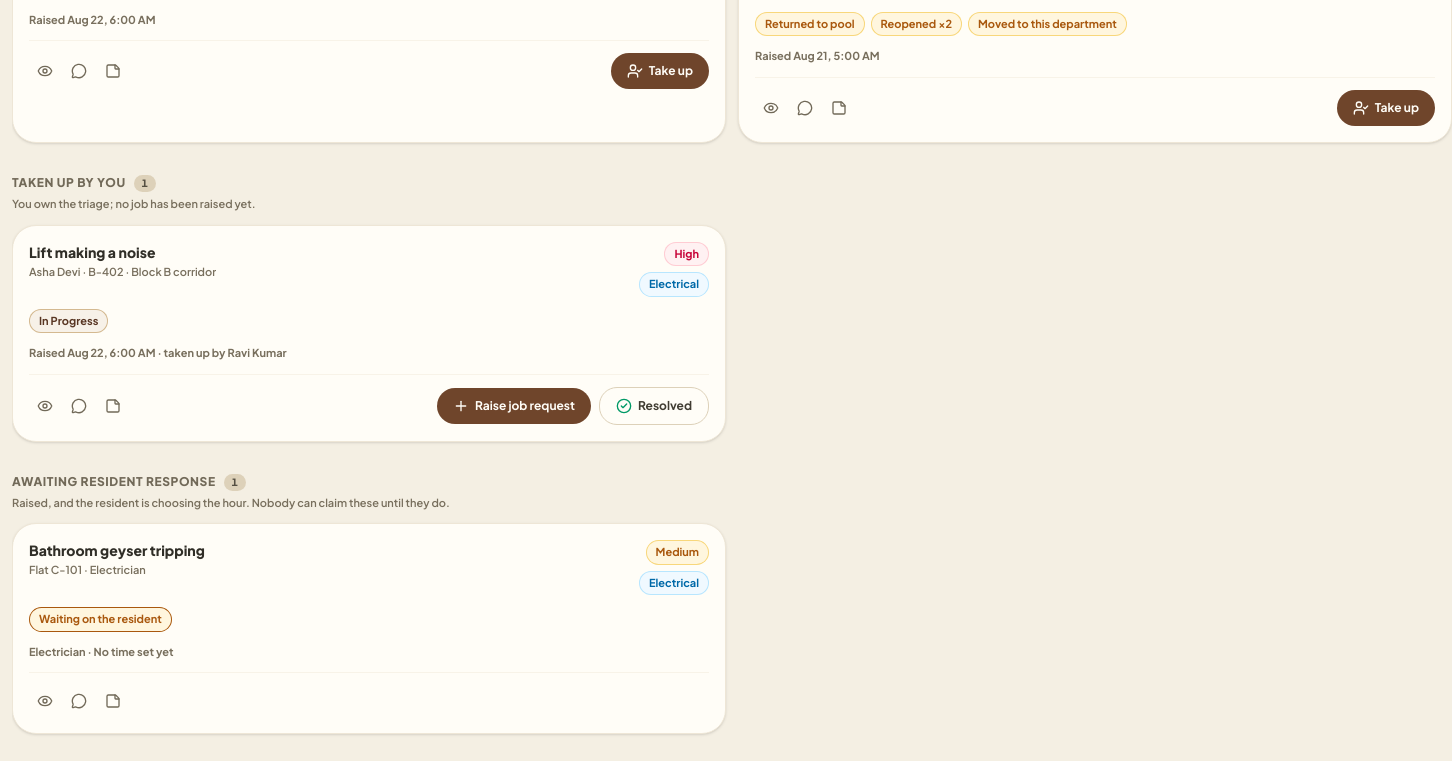
section 2 — taken up by you › shows the running-job refusal verbatim, on the card it refused
(page scrolled)
Expected: the heading "Lift making a noise" is shown, [29,243,156,261]
What coordinates should you click on to do the following:
click the button "Resolved"
I would click on:
 (654, 406)
Its box is [599,387,709,425].
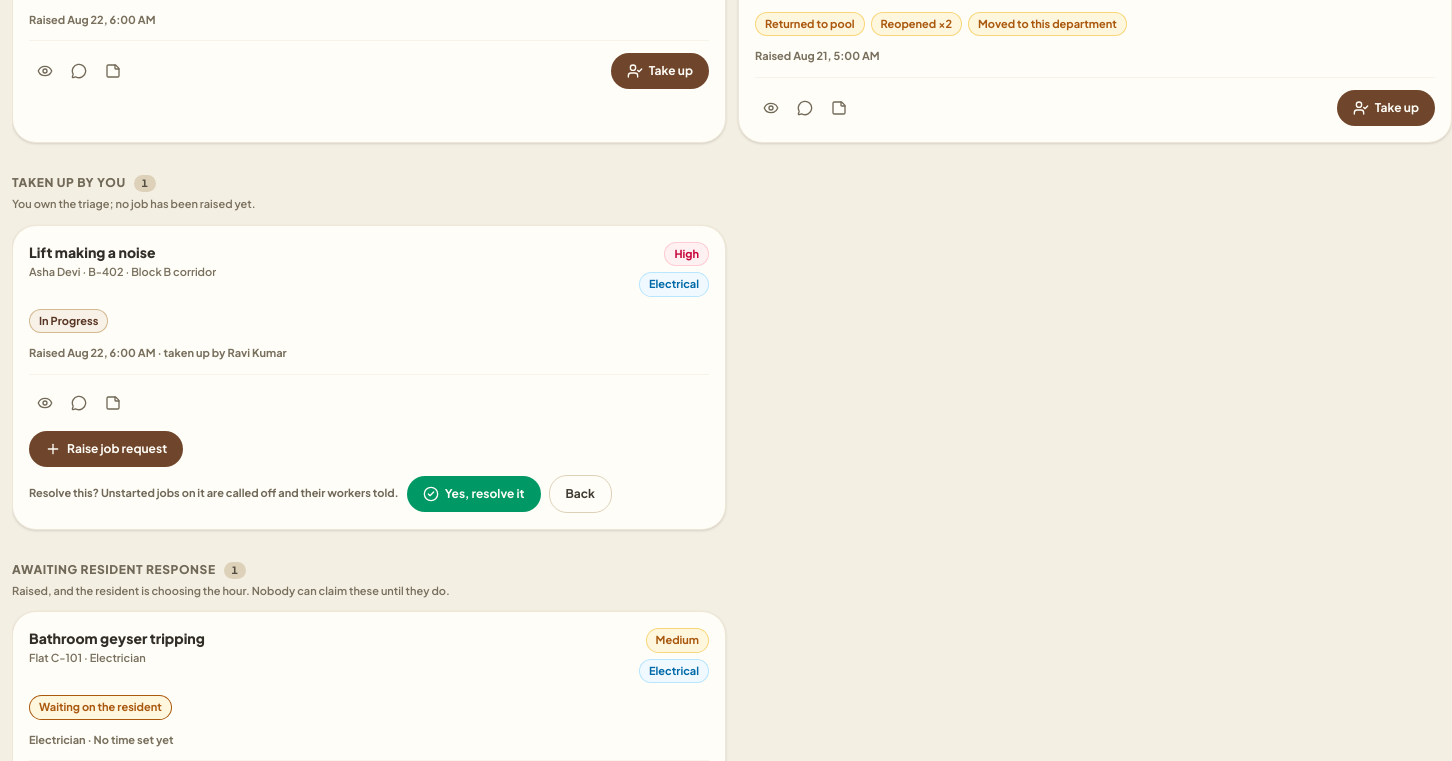
What coordinates should you click on to do the following:
click the button "Yes, resolve it"
I would click on:
 (474, 494)
Its box is [407,476,540,512].
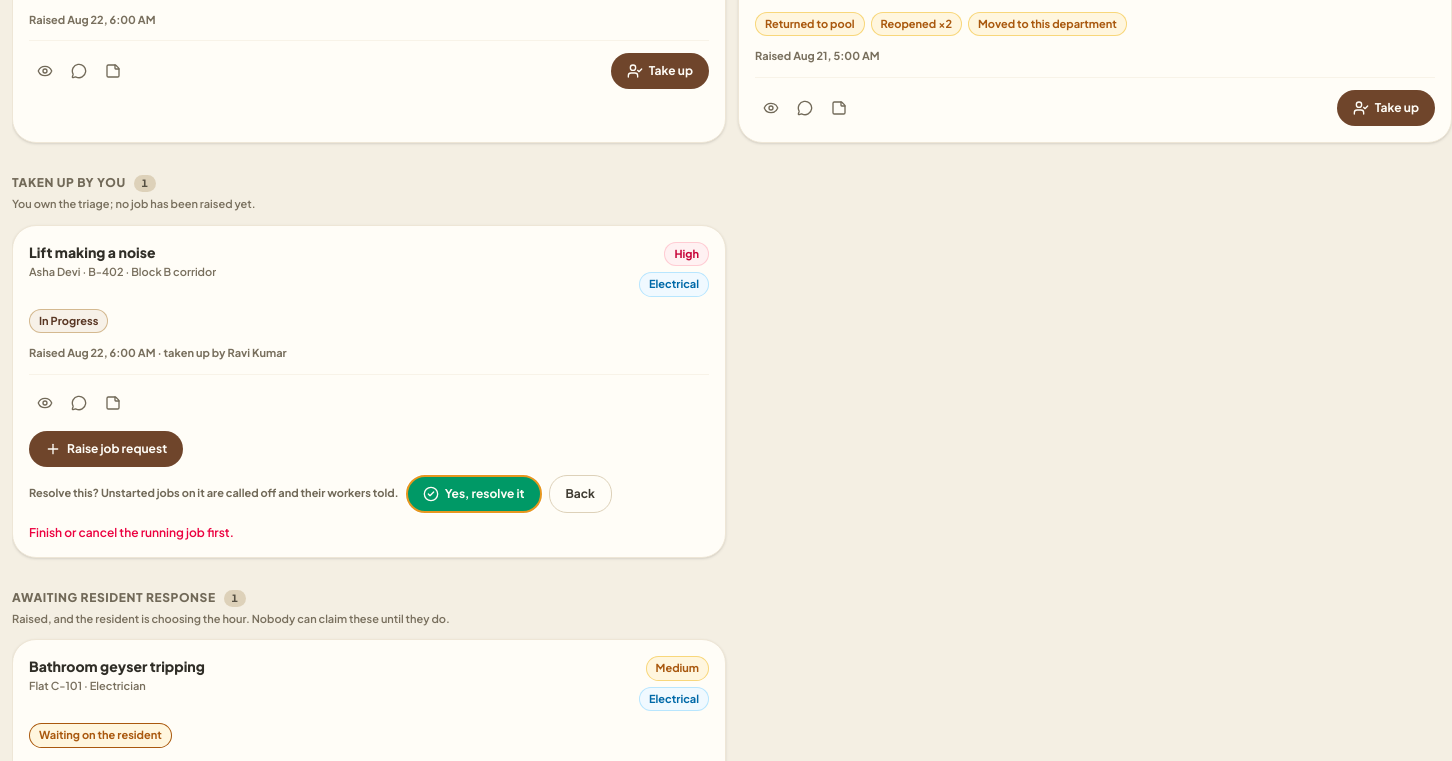
Expected: the message reads "Finish or cancel the running job first.", [29,525,234,540]
